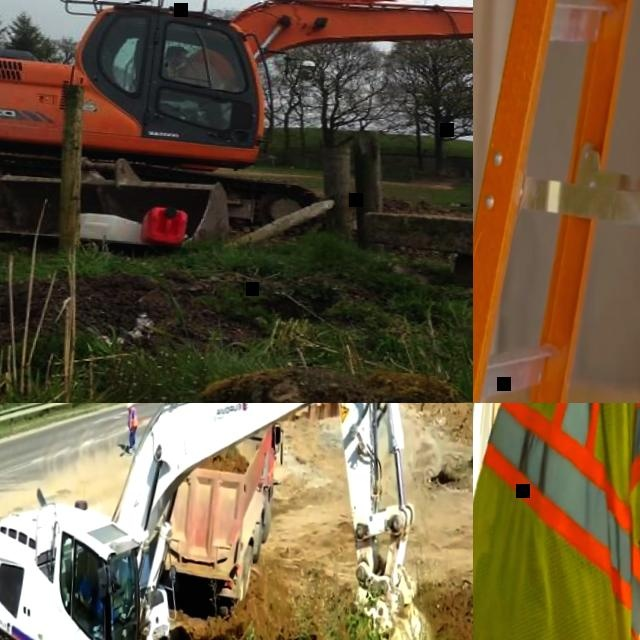Hardhat: (126, 403, 132, 407)
NO-Hardhat: (166, 42, 188, 54)
NO-Safety Vest: (79, 580, 91, 606)
Person: (473, 403, 640, 640), (156, 42, 233, 130), (76, 560, 119, 624), (122, 403, 139, 454)
Safety Vest: (473, 403, 640, 640), (128, 406, 137, 430)
machinery: (0, 0, 473, 269), (0, 403, 454, 640), (156, 412, 284, 617)
